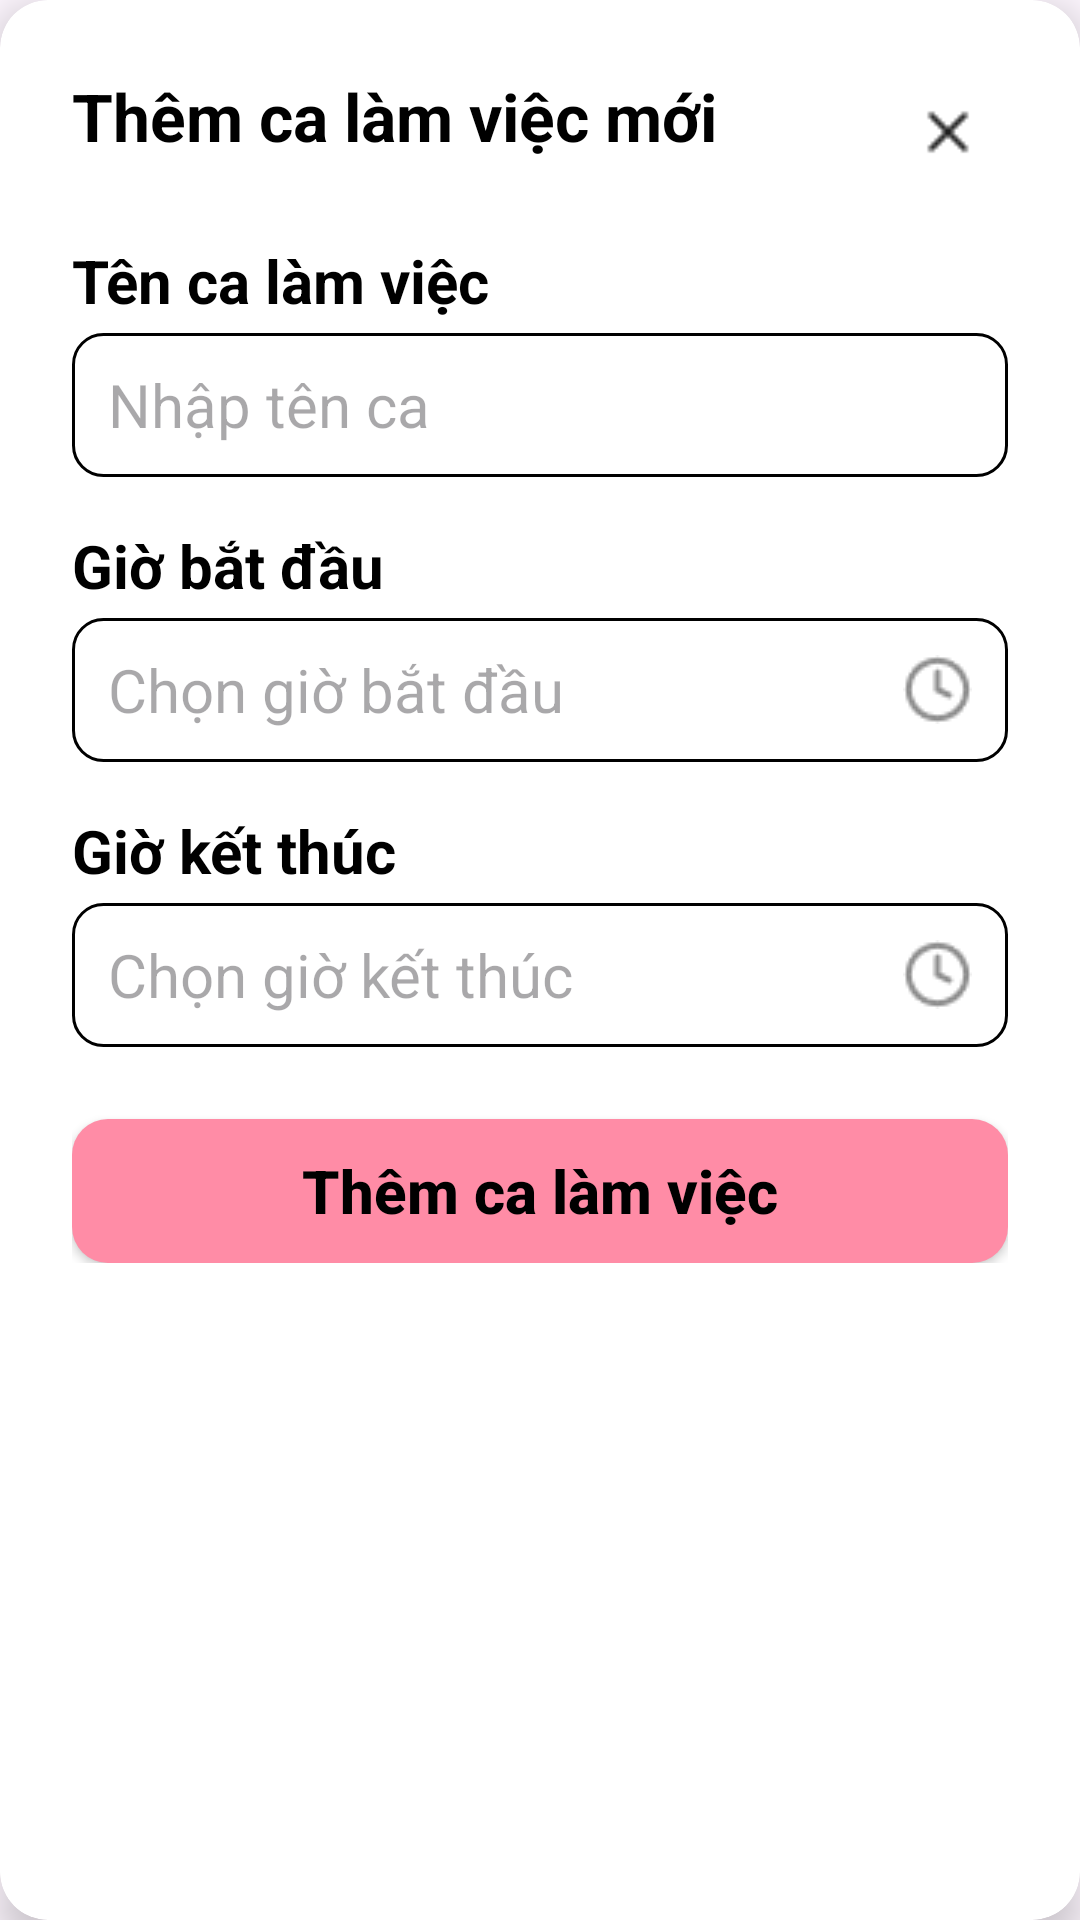

Where to tap for icons on this 1080*1920 app screen, as point (x, y):
Đóng: point (948, 132)
